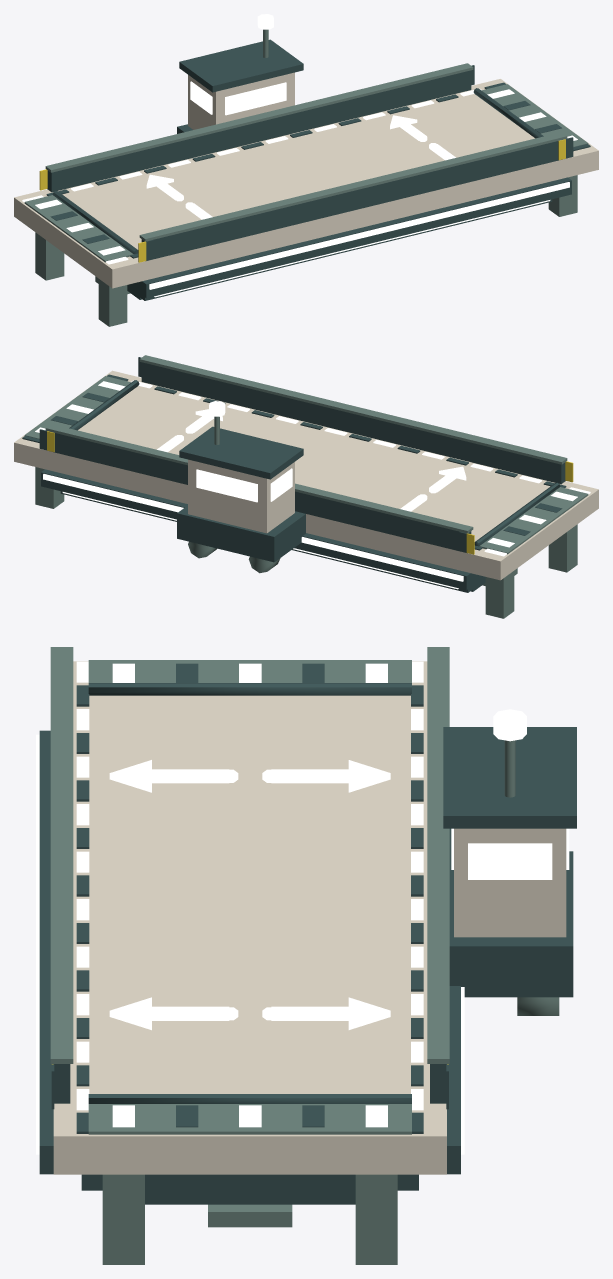
File: Deck_Ferry_v4_8_lab.glb
3 renders of one model, top to bottom at view 1: azimuth 30°, elevation 25°; view 2: azimuth 150°, elevation 25°; view 3: azimuth 270°, elevation 25°, orthographic. The views are drawn at different scales.
Visible parts, largest first — view 1: Deck_Ferry_v4_8; view 2: Deck_Ferry_v4_8; view 3: Deck_Ferry_v4_8.
Part boxes in pixels (x1,y1,x2,y2): Deck_Ferry_v4_8: (14,14,598,326); Deck_Ferry_v4_8: (14,355,598,618); Deck_Ferry_v4_8: (36,647,576,1264).
Bounding box in the file's own units: 8 × 2.7 × 3.85.
